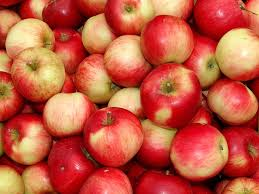apple: (144, 66, 211, 127), (169, 127, 231, 179), (87, 108, 146, 160), (40, 136, 99, 186), (11, 47, 63, 102), (136, 116, 192, 167), (40, 93, 93, 138), (102, 35, 152, 82), (7, 18, 58, 59), (3, 115, 47, 162), (75, 52, 115, 103), (81, 12, 126, 55), (197, 1, 250, 37), (143, 20, 194, 57), (217, 32, 259, 76), (213, 79, 259, 116), (107, 1, 151, 36), (80, 170, 139, 192), (42, 1, 86, 29)
